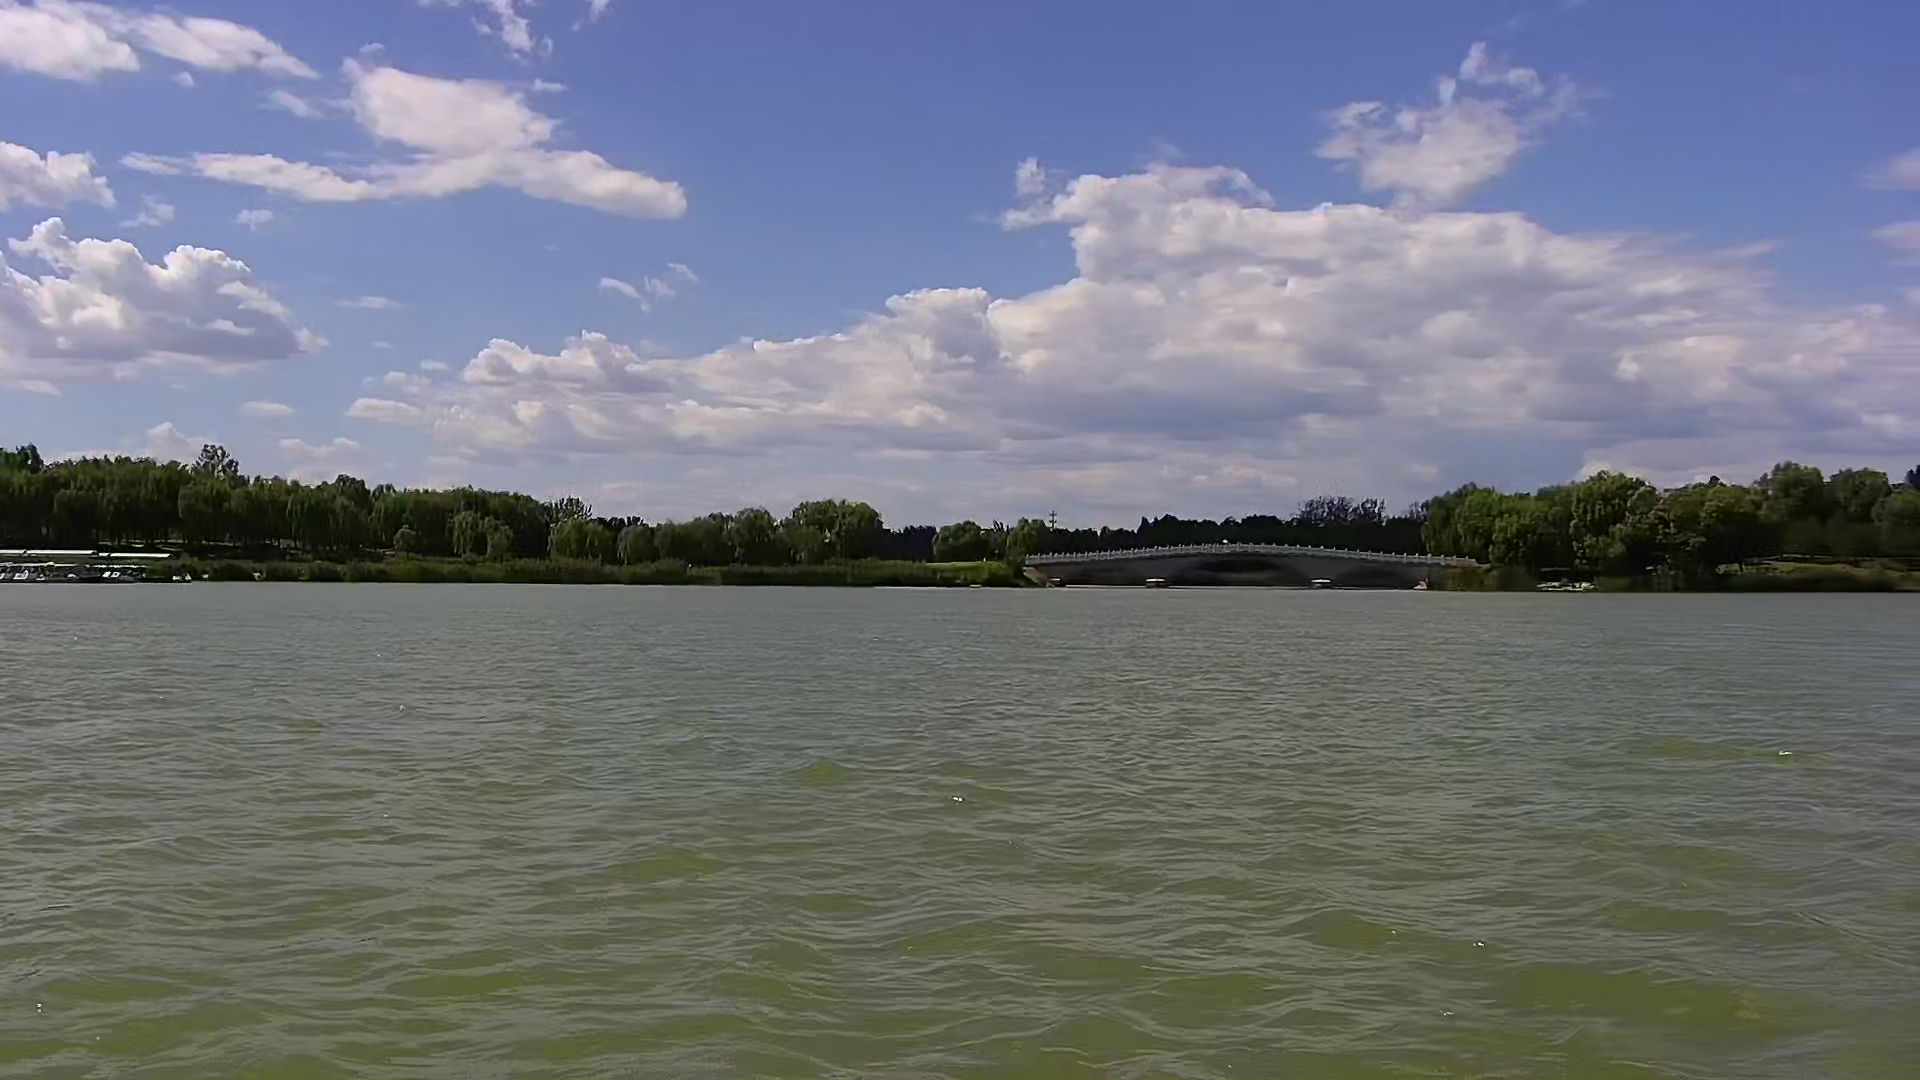bridge: (1025, 539, 1487, 597)
harbor: (1, 546, 181, 589)
